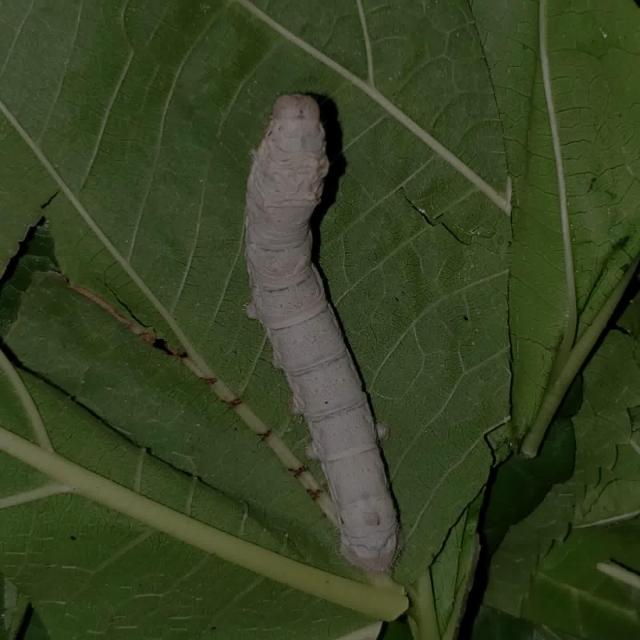Healthy: (206, 74, 423, 611)
